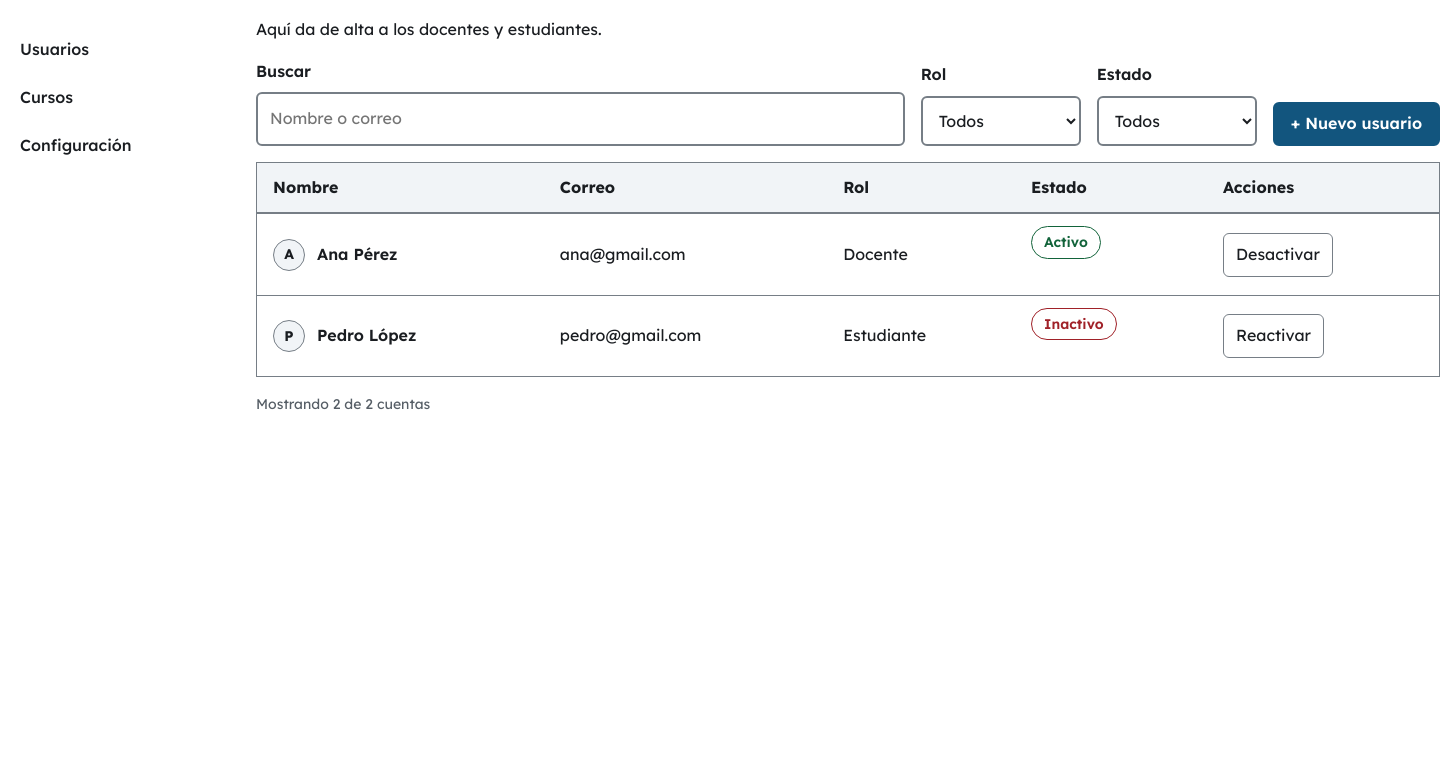
Scenario: Etiquetas de la pantalla › el botón dice si el formulario está abierto
Click the button "+ Nuevo usuario" at [1356, 124], box 1273,102 -> 1439,146
(page scrolled)
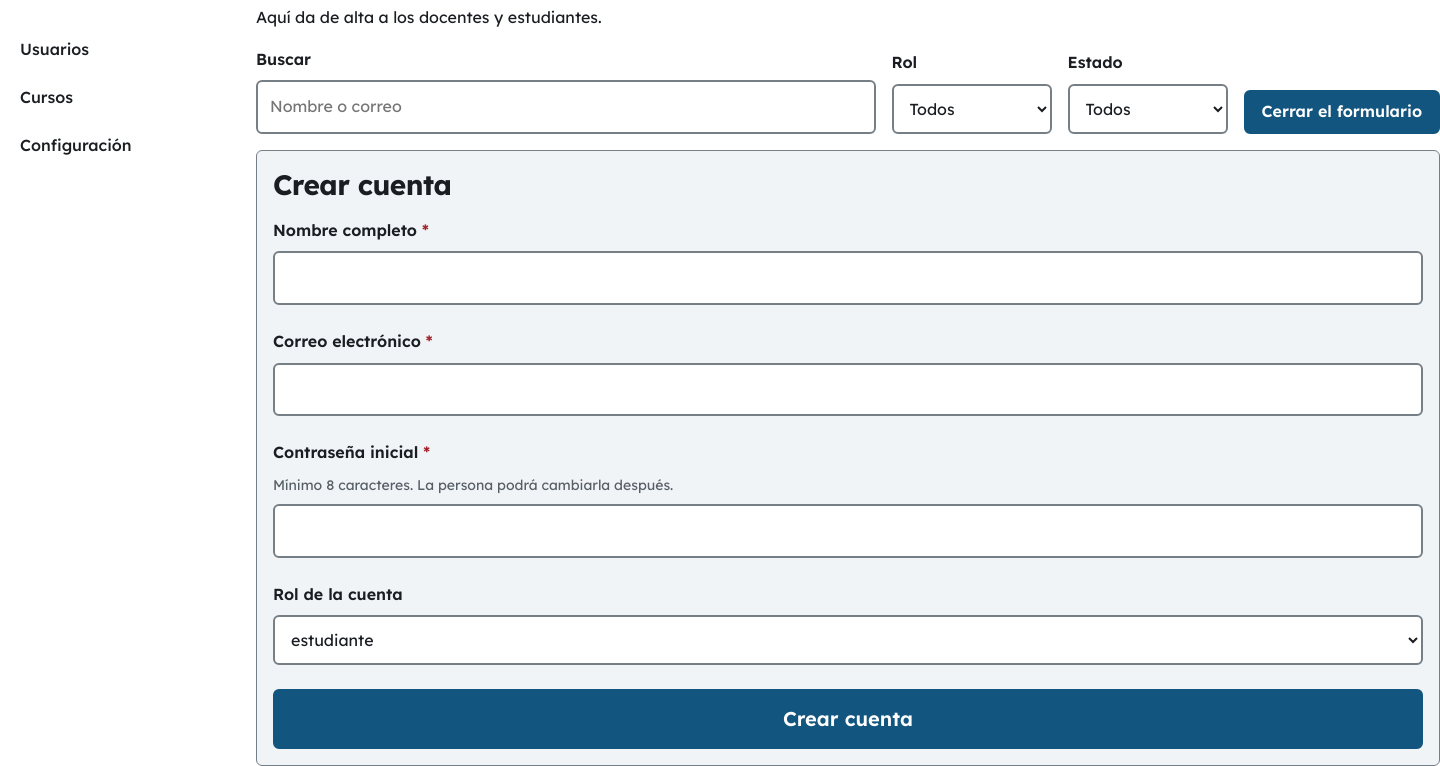
expect the button "Cerrar el formulario" is expanded: met, box 1244,90 -> 1439,134
